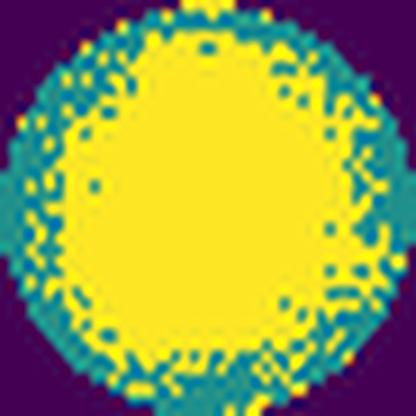Center: (61, 31, 358, 364)
